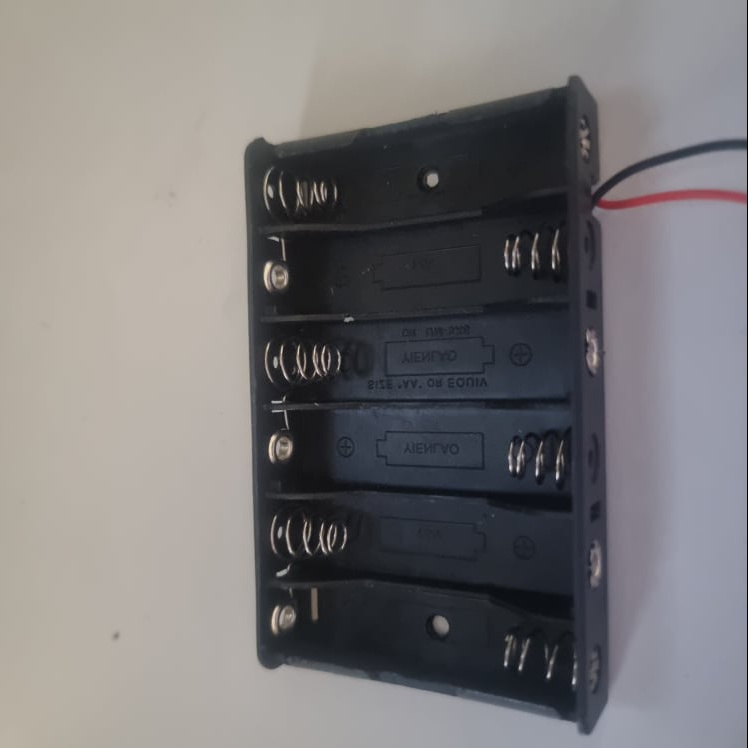BATTERY BOX: (245, 71, 615, 734)
